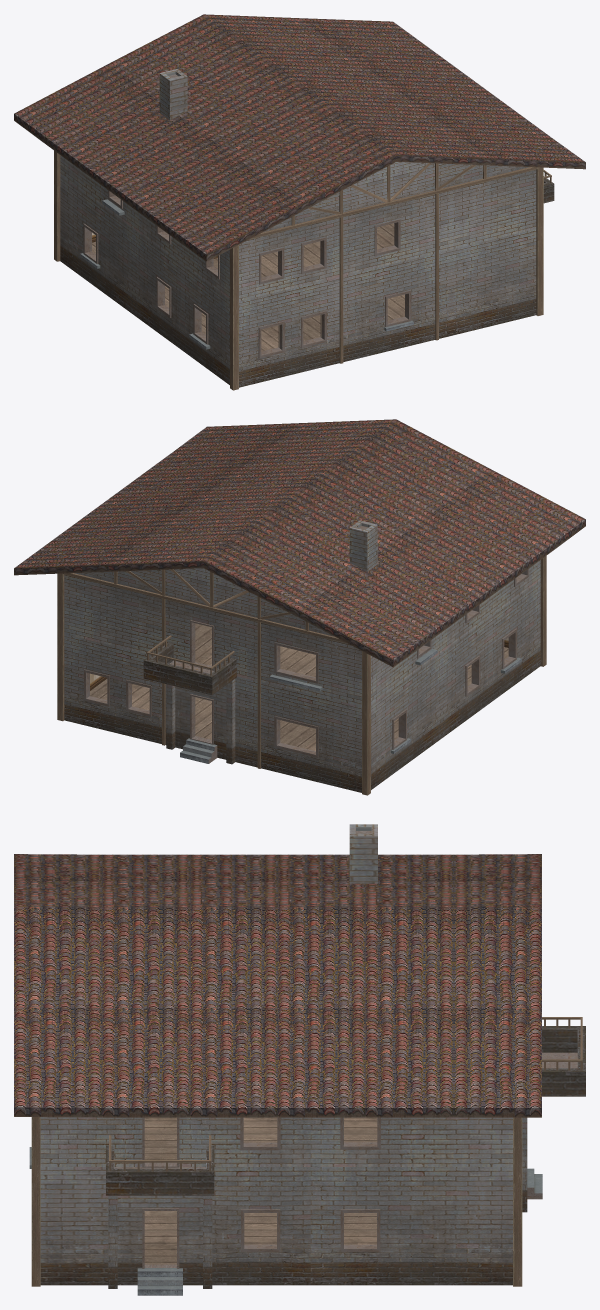
Rendered from MiniBR_Building004.fbx.
3 renders of one model, top to bottom at view 1: azimuth 30°, elevation 25°; view 2: azimuth 150°, elevation 25°; view 3: azimuth 270°, elevation 25°, orthographic. The views are drawn at different scales.
Visible parts, largest first — view 1: MiniBR_Building004; view 2: MiniBR_Building004; view 3: MiniBR_Building004.
Part boxes in pixels (x1,y1,x2,y2): MiniBR_Building004: [14, 14, 585, 390]; MiniBR_Building004: [14, 419, 585, 795]; MiniBR_Building004: [14, 824, 585, 1295].
Bounding box in the file's own units: 1807 × 1716 × 960.
